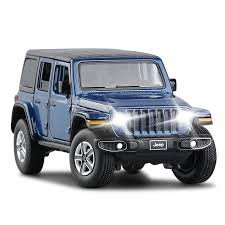mobil: (10, 47, 219, 193)
